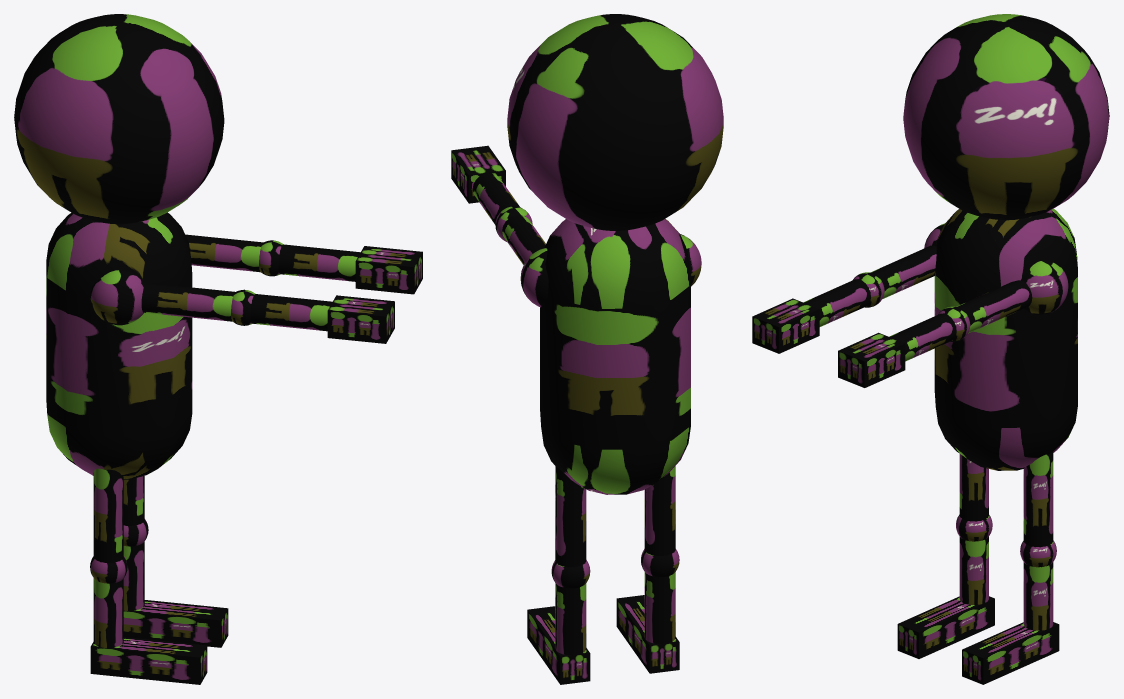
The model's file is MiniZombieFinal.fbx.
The picture shows the model from 3 angles, left to right: view 1: azimuth 30°, elevation 25°; view 2: azimuth 150°, elevation 25°; view 3: azimuth 270°, elevation 25°; orthographic projection. The views are drawn at different scales.
Visible parts, largest first — view 1: Mini Zombie; view 2: Mini Zombie; view 3: Mini Zombie.
Boxes of the visible parts, x1,y1,x2,y2 form: Mini Zombie: (14,14,422,684); Mini Zombie: (451,14,723,684); Mini Zombie: (752,14,1109,684).
Bounding box in the file's own units: 306 × 568 × 299.
